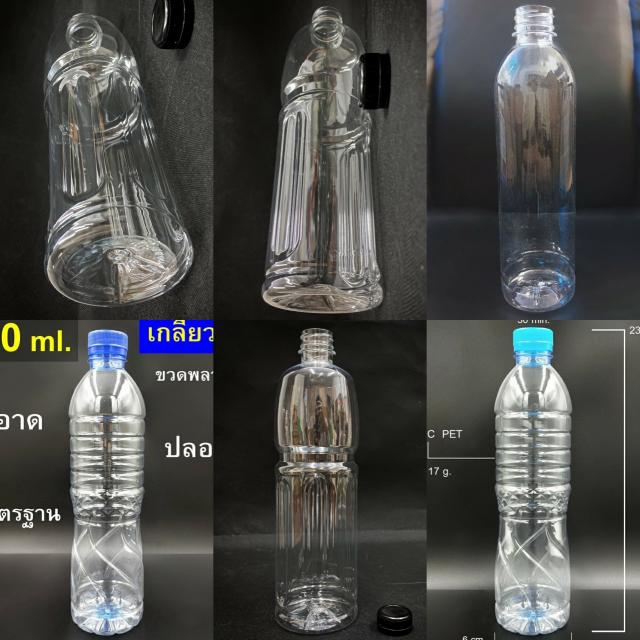plastik: (44, 14, 194, 306), (262, 8, 382, 312), (275, 329, 359, 634), (495, 6, 575, 311), (495, 327, 572, 635), (69, 330, 145, 635)
